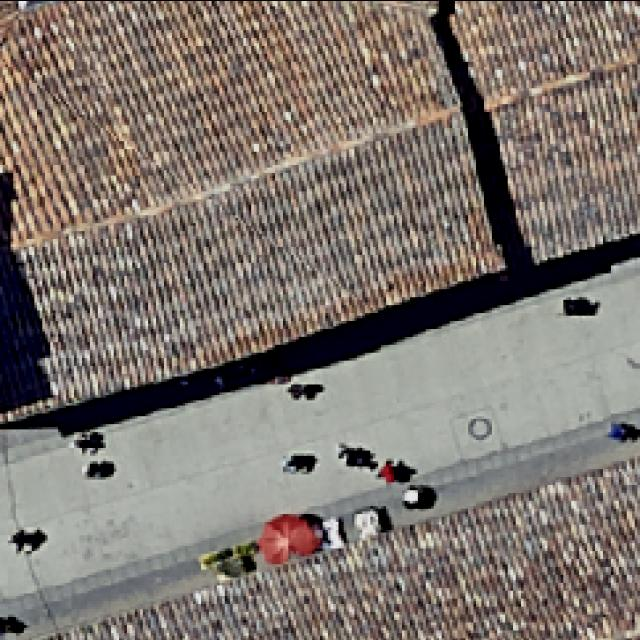vendedor_ambulante: (256, 512, 321, 564)
